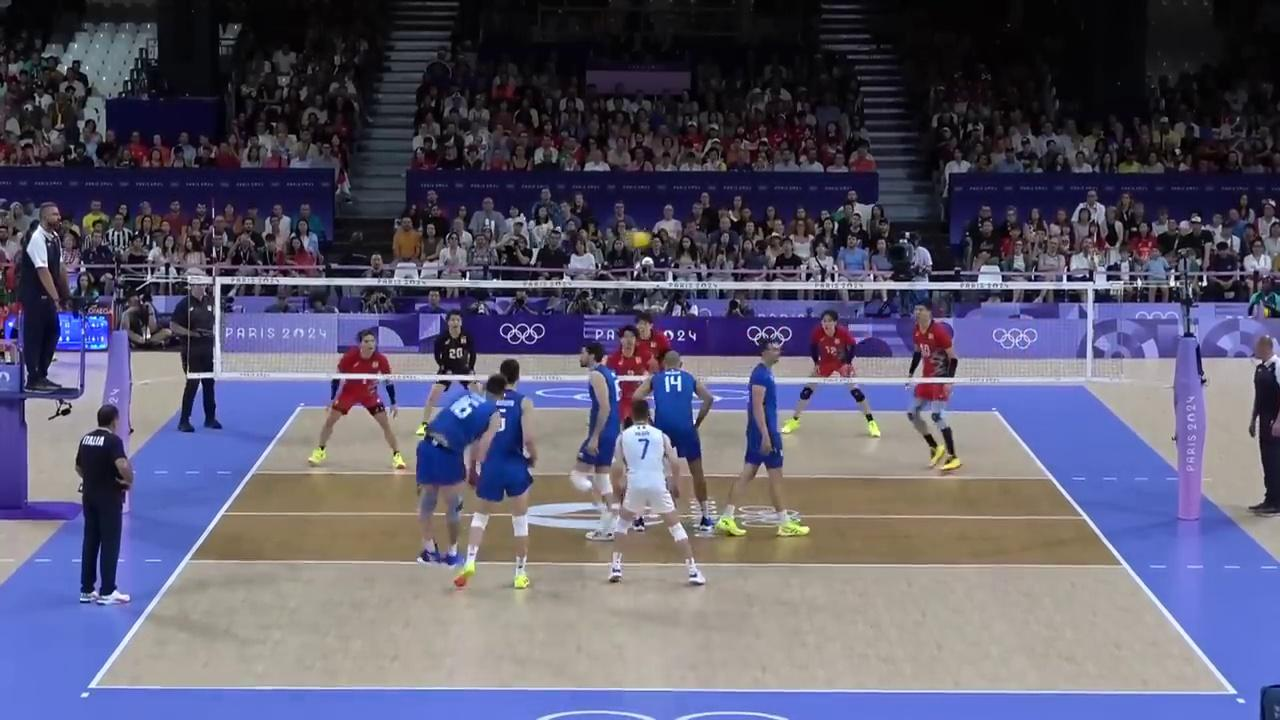ball: (623, 230, 649, 246)
